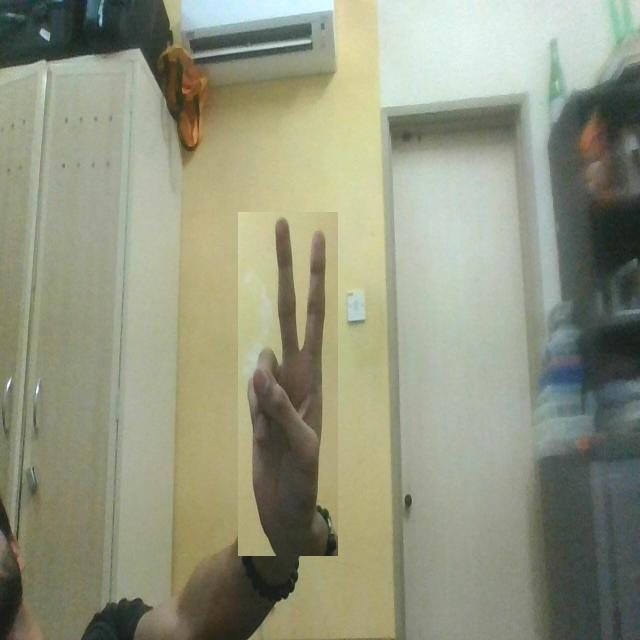peace: (238, 212, 338, 556)
